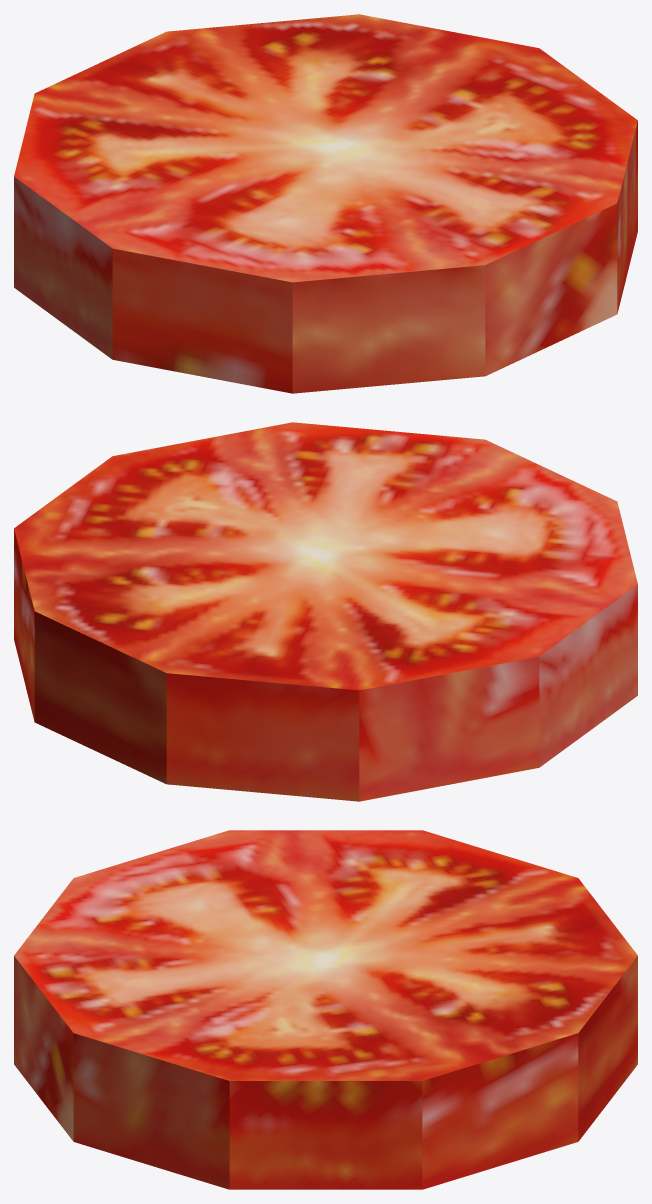
Rendered from tomato.glb.
3 views of the same model, one above another, from view 1: azimuth 30°, elevation 25°; view 2: azimuth 150°, elevation 25°; view 3: azimuth 270°, elevation 25° (orthographic). The views are drawn at different scales.
Parts seen in each view (by area): view 1: Circle; view 2: Circle; view 3: Circle.
Part boxes in pixels (<box>): Circle: <box>14,14,637,393</box>; Circle: <box>14,422,637,801</box>; Circle: <box>14,830,637,1189</box>.
Size of the model in its own units: 1.9 by 0.3848 by 2.
1 material, 1 textured.
